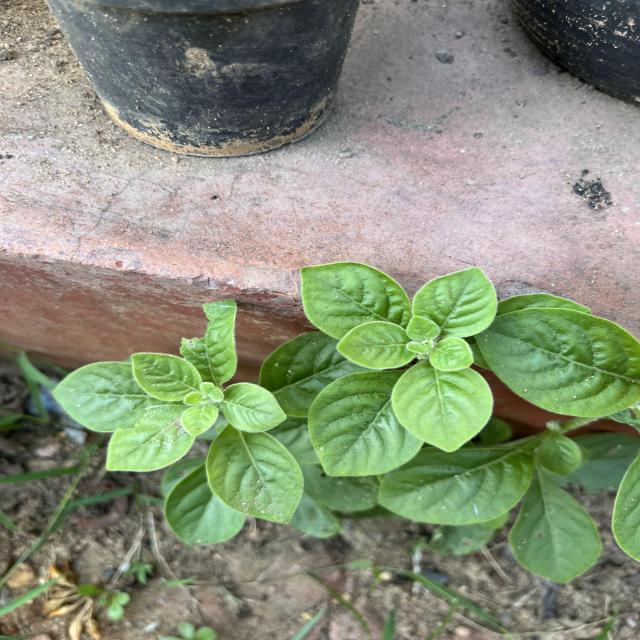Aerva lanata: (305, 367, 427, 479), (202, 426, 307, 527), (388, 362, 496, 454), (298, 259, 416, 342), (410, 265, 500, 340), (334, 318, 421, 372), (128, 350, 205, 403), (220, 380, 290, 434)
